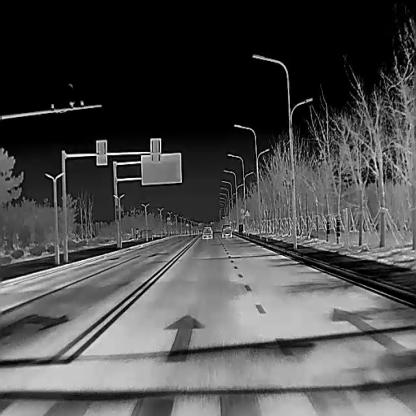car: (220, 224, 232, 238), (201, 225, 212, 240)
